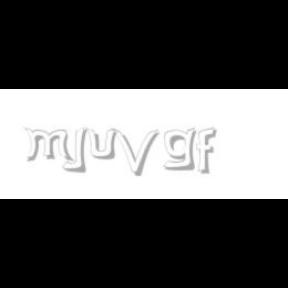J: (61, 128, 86, 172)
V: (111, 128, 159, 176)
f: (196, 128, 220, 174)
g: (163, 128, 200, 171)
m: (23, 128, 75, 162)
u: (86, 128, 120, 160)
